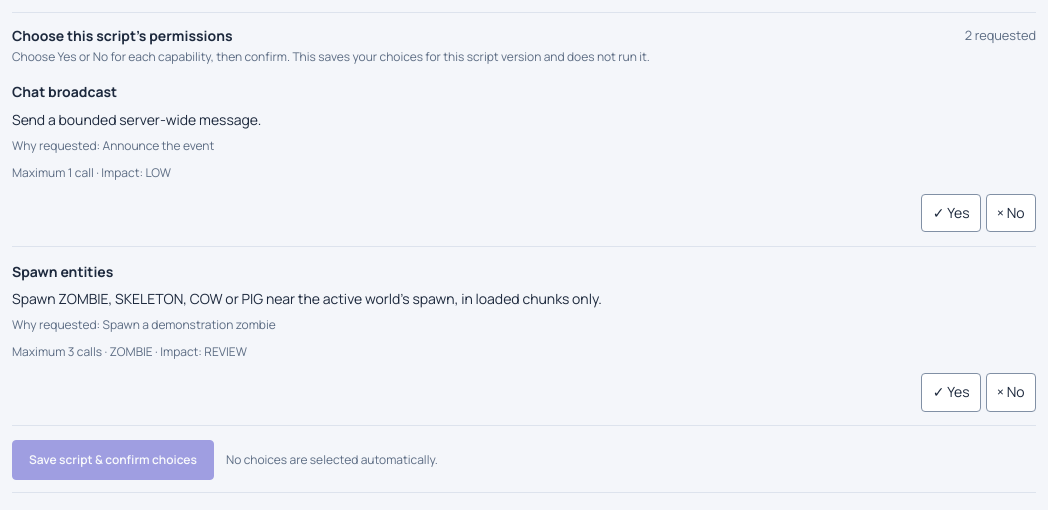
Test: starts neutral, requires a choice for each capability, and does not approve until confirmed
This screenshot has width=1048, height=510.
expect the button "Save script & confirm choices" is disabled: met, box [12,440,214,480]
Click the button with aria-label "Yes, allow Chat broadcast" at (951, 213), box [921,194,981,232]
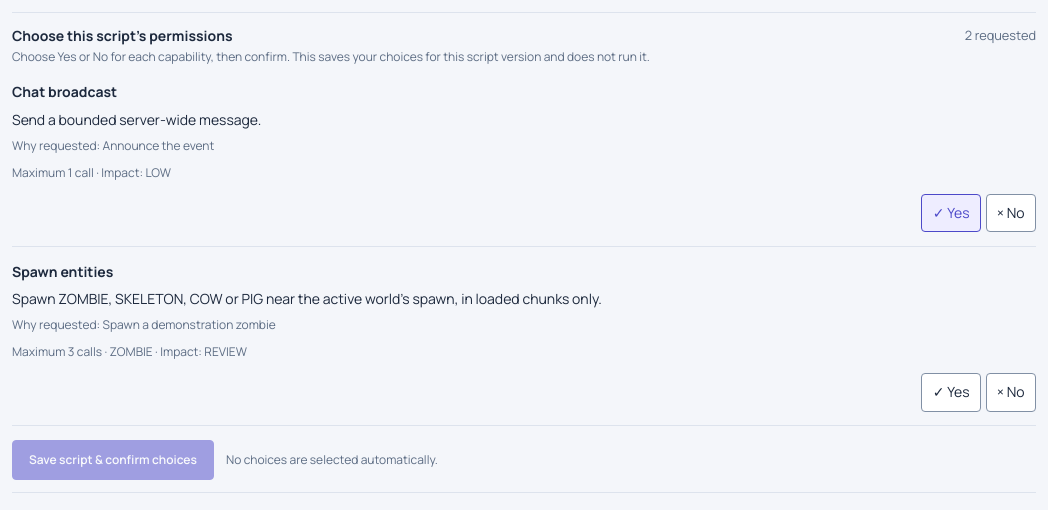
expect the button "Save script & confirm choices" is disabled: met, box [12,440,214,480]
Click the button with aria-label "No, deny Spawn entities" at (1011, 392), box [986,373,1036,412]
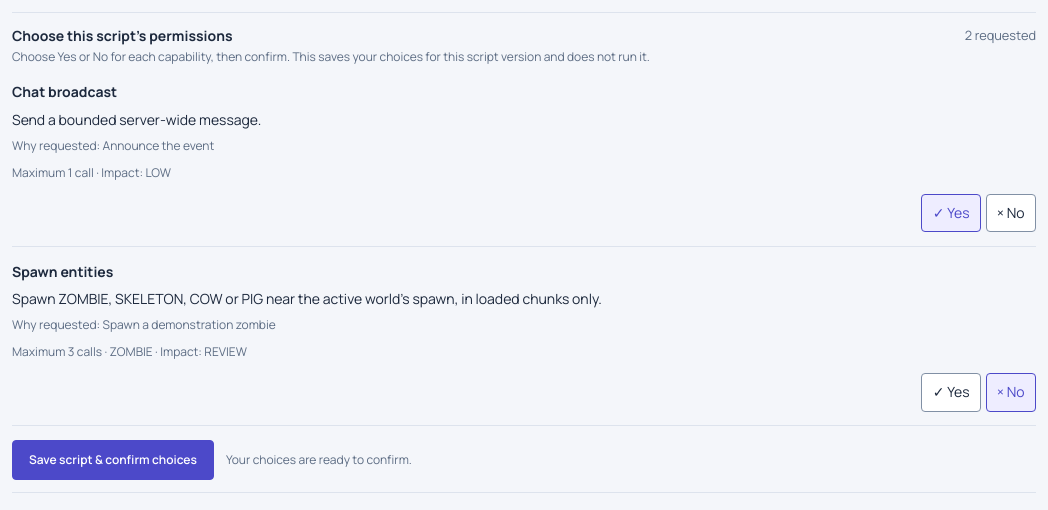
expect the button "Save script & confirm choices" is enabled: met
Click the button "Save script & confirm choices" at (113, 460), box [12,440,214,480]
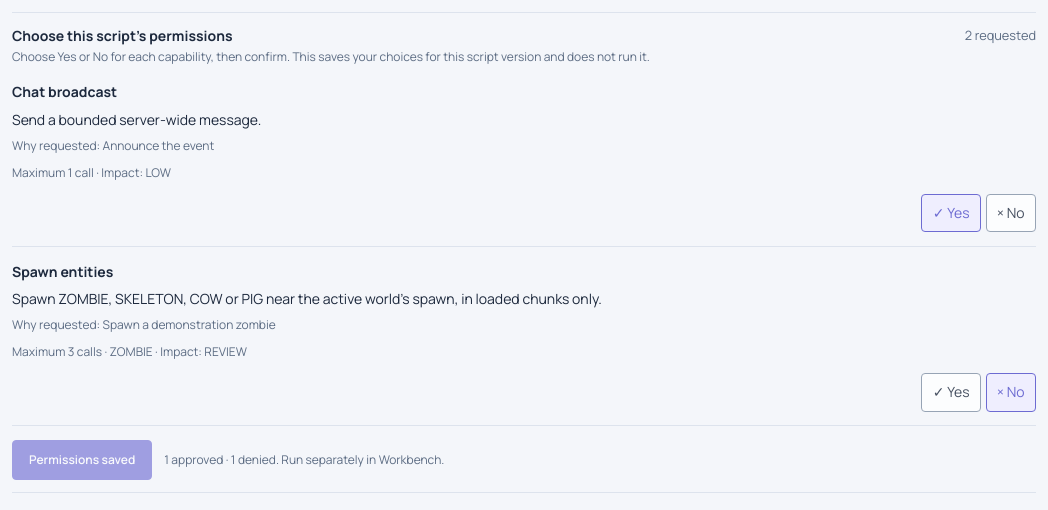
expect the text "1 approved · 1 denied. Run separately in Workbench." is shown: met, box [164,450,444,470]
